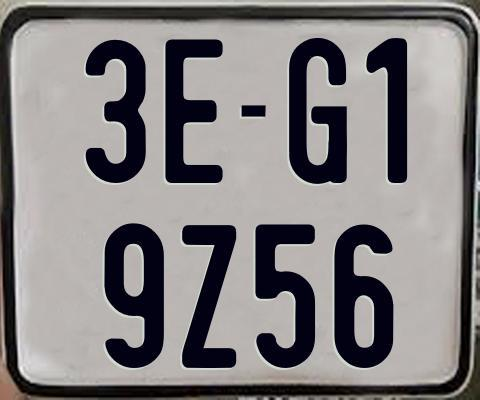1: (365, 38, 408, 186)
3: (84, 40, 149, 188)
5: (254, 222, 314, 367)
6: (333, 224, 395, 374)
9: (104, 222, 168, 370)
E: (165, 38, 228, 183)
G: (286, 36, 349, 187)
Z: (180, 223, 238, 368)
